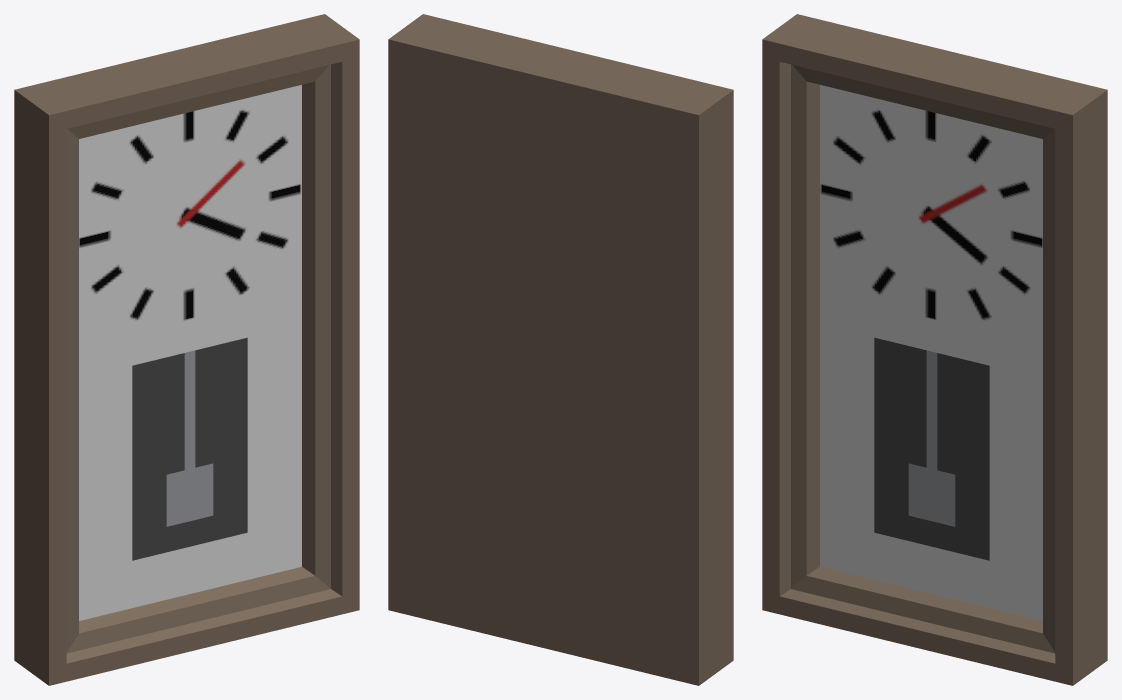
File: SM_Prop_Clock_02.fbx
The picture shows the model from 3 angles, left to right: view 1: azimuth 30°, elevation 25°; view 2: azimuth 150°, elevation 25°; view 3: azimuth 330°, elevation 25°; orthographic projection.
Parts seen in each view (by area): view 1: SM_Prop_Clock_02; view 2: SM_Prop_Clock_02; view 3: SM_Prop_Clock_02.
Boxes of the visible parts, bbox=[...] form: SM_Prop_Clock_02: bbox=[14, 14, 359, 685]; SM_Prop_Clock_02: bbox=[388, 14, 733, 685]; SM_Prop_Clock_02: bbox=[762, 14, 1107, 685].
Size of the model in its own units: 41.2 by 72.33 by 7.99.
